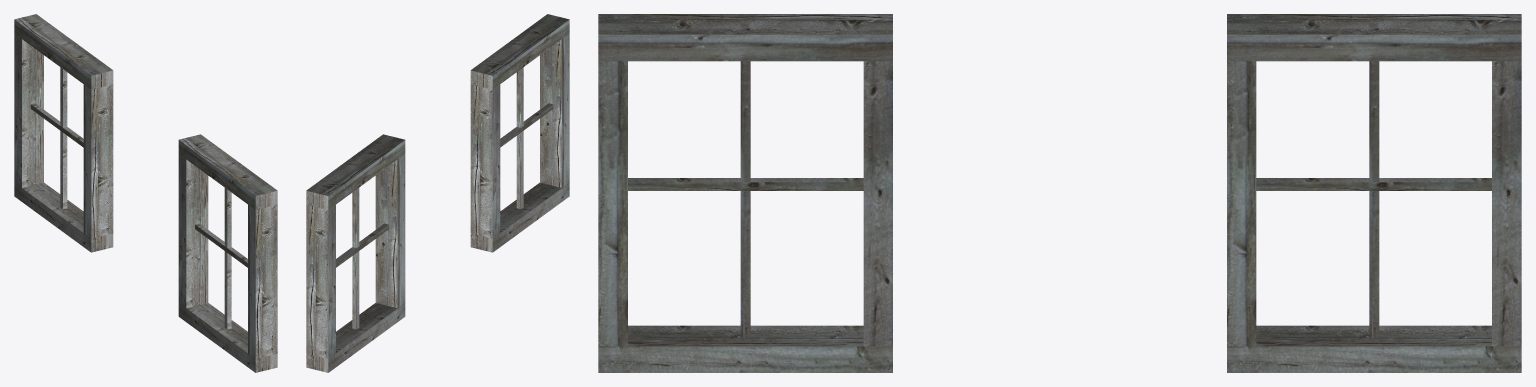
Rendered from window1.fbx.
The picture shows the model from 3 angles, left to right: view 1: azimuth 30°, elevation 25°; view 2: azimuth 150°, elevation 25°; view 3: azimuth 270°, elevation 25°; orthographic projection. The views are drawn at different scales.
Parts seen in each view (by area): view 1: window1; view 2: window1; view 3: window1.
Part boxes in pixels (x1,y1,x2,y2): window1: [14, 14, 277, 372]; window1: [306, 14, 569, 372]; window1: [598, 14, 1521, 372].
Bounding box in the file's own units: 2001 × 15200 × 37600.
